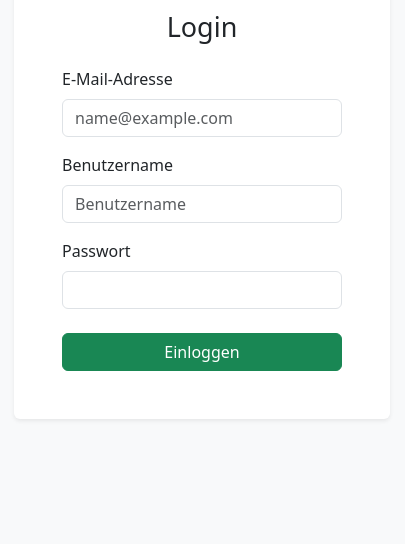
LoginPage › surfaces errors returned by the API
This screenshot has width=405, height=544.
Type "user@example.com" into the field labelled "E-Mail-Adresse" at x=202, y=118, box [62,99,342,137]
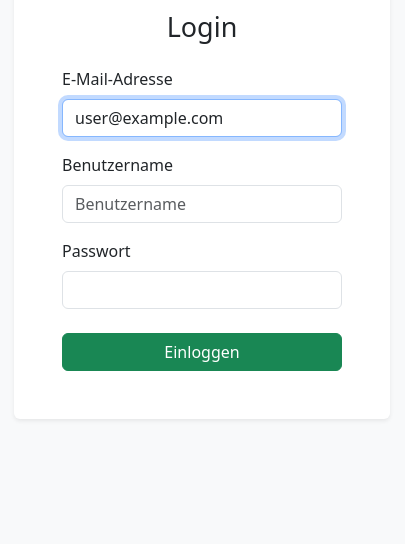
Type "demo" into the field labelled "Benutzername" at x=202, y=204, box [62,185,342,223]
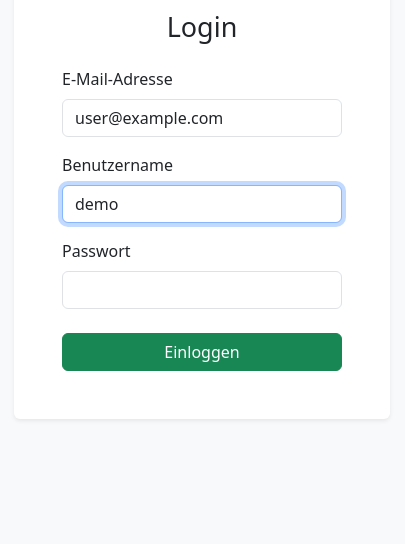
Type "bad" into the password field labelled "Passwort" at x=202, y=290, box [62,271,342,309]
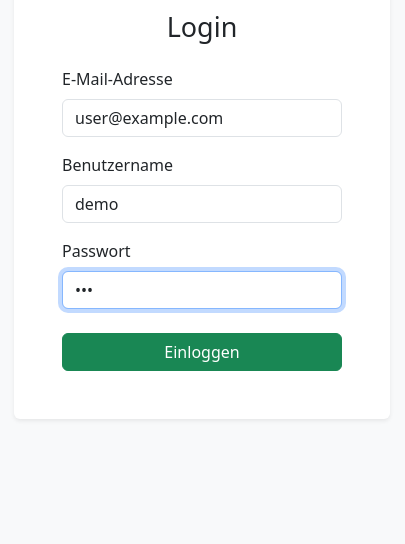
Click the button "Einloggen" at x=202, y=352, box [62,333,342,371]
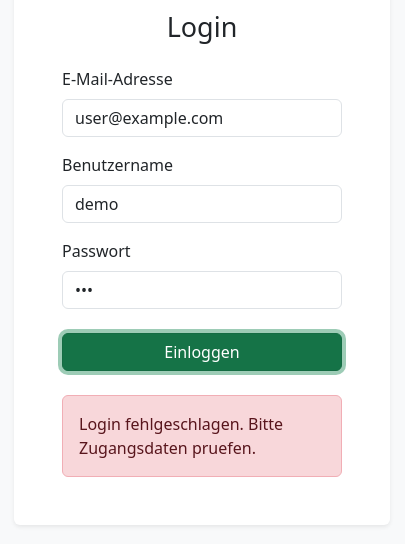
Expected: the message shows "Login fehlgeschlagen", [79,413,283,459]
